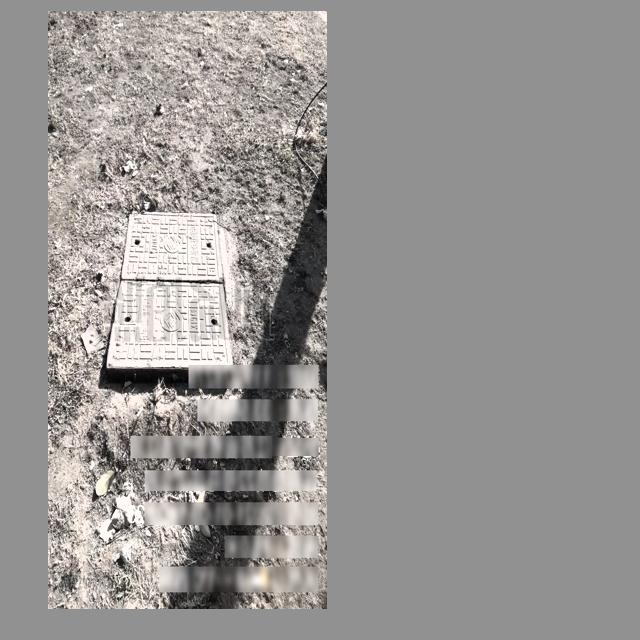uncovered: (103, 211, 233, 385)
